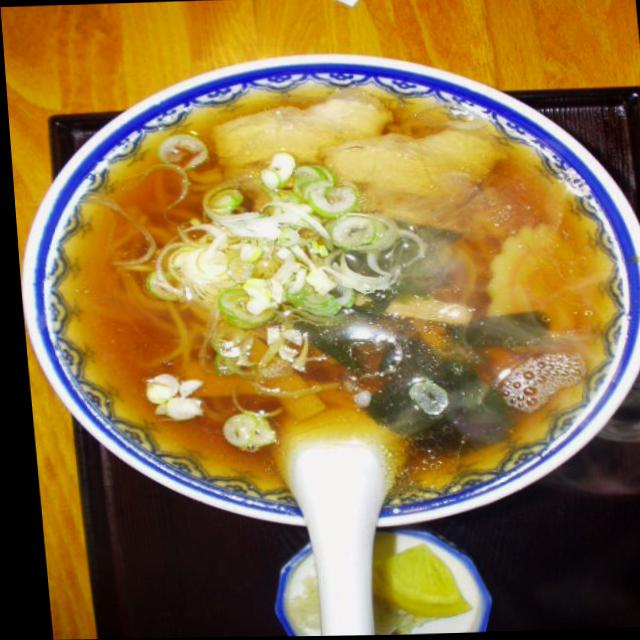面条主食: (3, 42, 640, 550)
